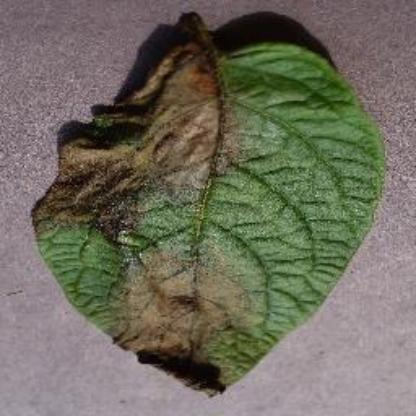Late-Blight: (28, 17, 386, 400)
